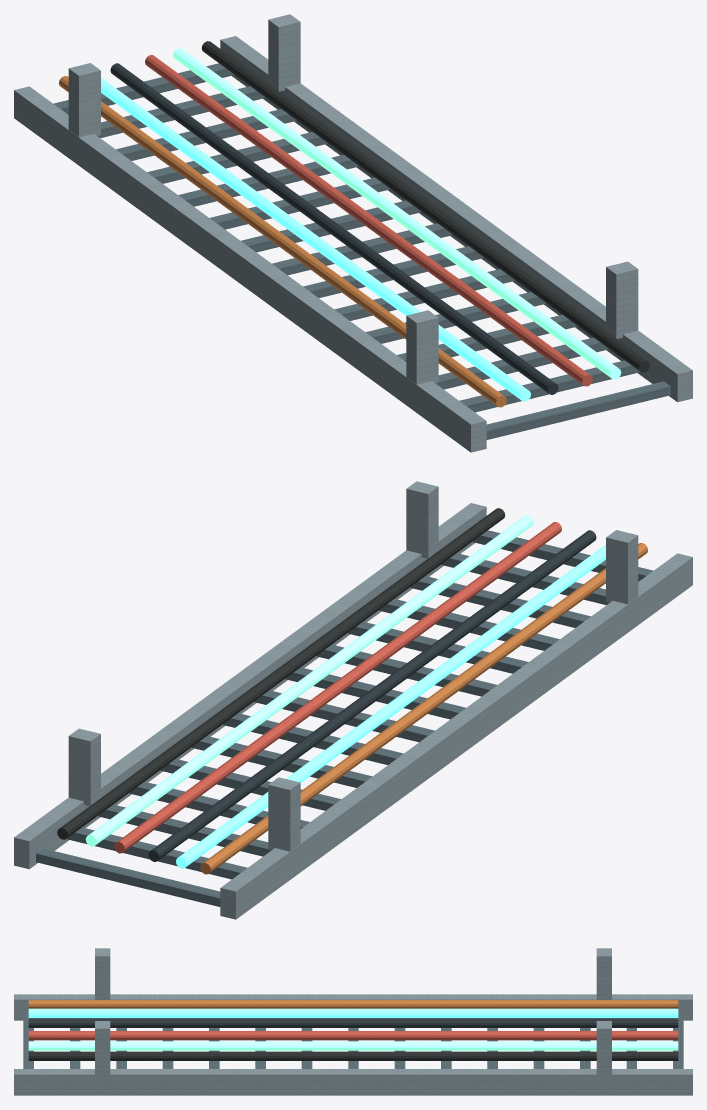
File: cable_tray.glb
3 views of the same model, one above another, from view 1: azimuth 30°, elevation 25°; view 2: azimuth 150°, elevation 25°; view 3: azimuth 270°, elevation 25° (orthographic). The views are drawn at different scales.
Visible parts, largest first — view 1: Cable_Tray_Frame__alloy, Rungs__trim, Mounting_Brackets__alloy, Cables__graphite, Cables__mint, Cables__rubber, Cables__red, Cables__cyan, Cables__amber; view 2: Cable_Tray_Frame__alloy, Rungs__trim, Mounting_Brackets__alloy, Cables__graphite, Cables__mint, Cables__rubber, Cables__red, Cables__cyan, Cables__amber; view 3: Cable_Tray_Frame__alloy, Cables__cyan, Cables__graphite, Cables__mint, Cables__red, Cables__rubber, Cables__amber, Mounting_Brackets__alloy, Rungs__trim.
Part boxes in pixels (left/top/right/bottom): Cable_Tray_Frame__alloy: left=14, top=36, right=692, bottom=452; Rungs__trim: left=53, top=63, right=670, bottom=439; Mounting_Brackets__alloy: left=68, top=14, right=638, bottom=384; Cables__graphite: left=110, top=63, right=558, bottom=394; Cables__mint: left=173, top=48, right=621, bottom=379; Cables__rubber: left=201, top=41, right=649, bottom=372; Cables__red: left=145, top=55, right=592, bottom=386; Cables__cyan: left=101, top=77, right=530, bottom=401; Cables__amber: left=59, top=76, right=506, bottom=407; Cable_Tray_Frame__alloy: left=14, top=503, right=692, bottom=919; Rungs__trim: left=36, top=530, right=653, bottom=906; Mounting_Brackets__alloy: left=68, top=481, right=638, bottom=851; Cables__graphite: left=148, top=530, right=596, bottom=861; Cables__mint: left=85, top=515, right=533, bottom=846; Cables__rubber: left=57, top=508, right=505, bottom=839; Cables__red: left=114, top=522, right=561, bottom=853; Cables__cyan: left=176, top=544, right=605, bottom=868; Cables__amber: left=200, top=543, right=647, bottom=874; Cable_Tray_Frame__alloy: left=14, top=994, right=692, bottom=1095; Cables__cyan: left=28, top=1008, right=678, bottom=1017; Cables__graphite: left=28, top=1018, right=678, bottom=1027; Cables__mint: left=28, top=1041, right=678, bottom=1050; Cables__red: left=28, top=1031, right=678, bottom=1040; Cables__rubber: left=28, top=1051, right=678, bottom=1060; Cables__amber: left=28, top=1000, right=678, bottom=1008; Mounting_Brackets__alloy: left=95, top=948, right=611, bottom=1074; Rungs__trim: left=23, top=1012, right=683, bottom=1068.
Bounding box in the file's own units: 0.645 × 0.249 × 2.3.
8 materials, 8 textured.
